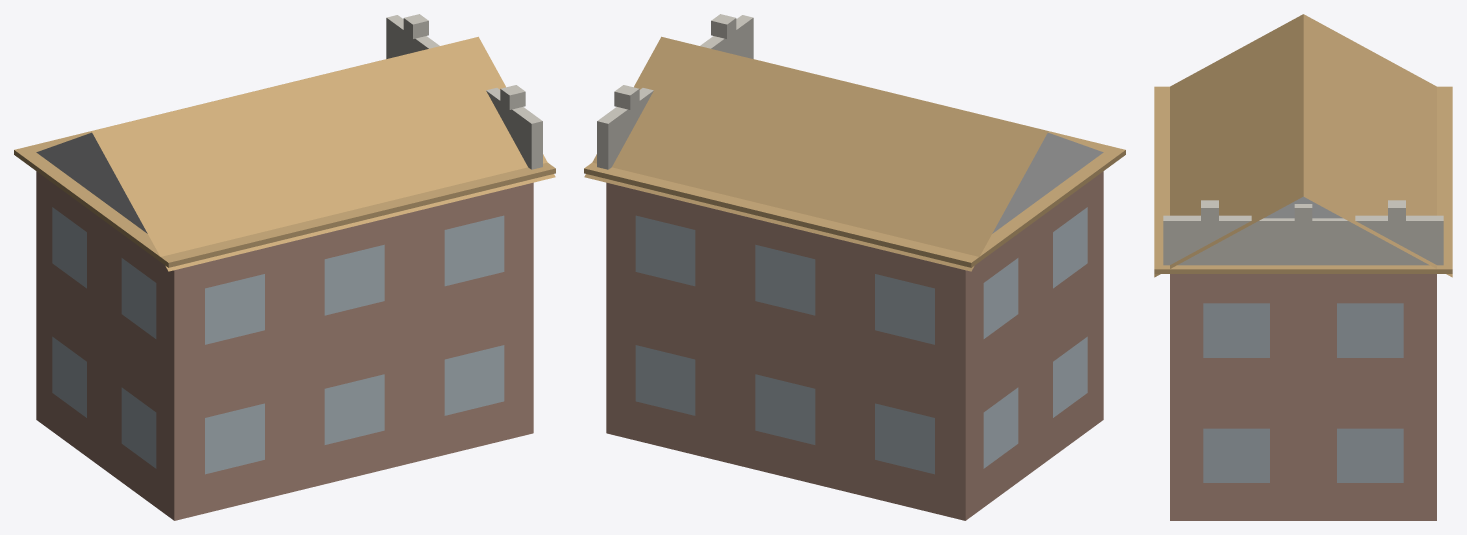
File: 10_traditional_houses-03.glb
The picture shows the model from 3 angles, left to right: view 1: azimuth 30°, elevation 25°; view 2: azimuth 150°, elevation 25°; view 3: azimuth 270°, elevation 25°; orthographic projection. The views are drawn at different scales.
Bounding box in the file's own units: 9.7 × 8.2 × 6.7.
